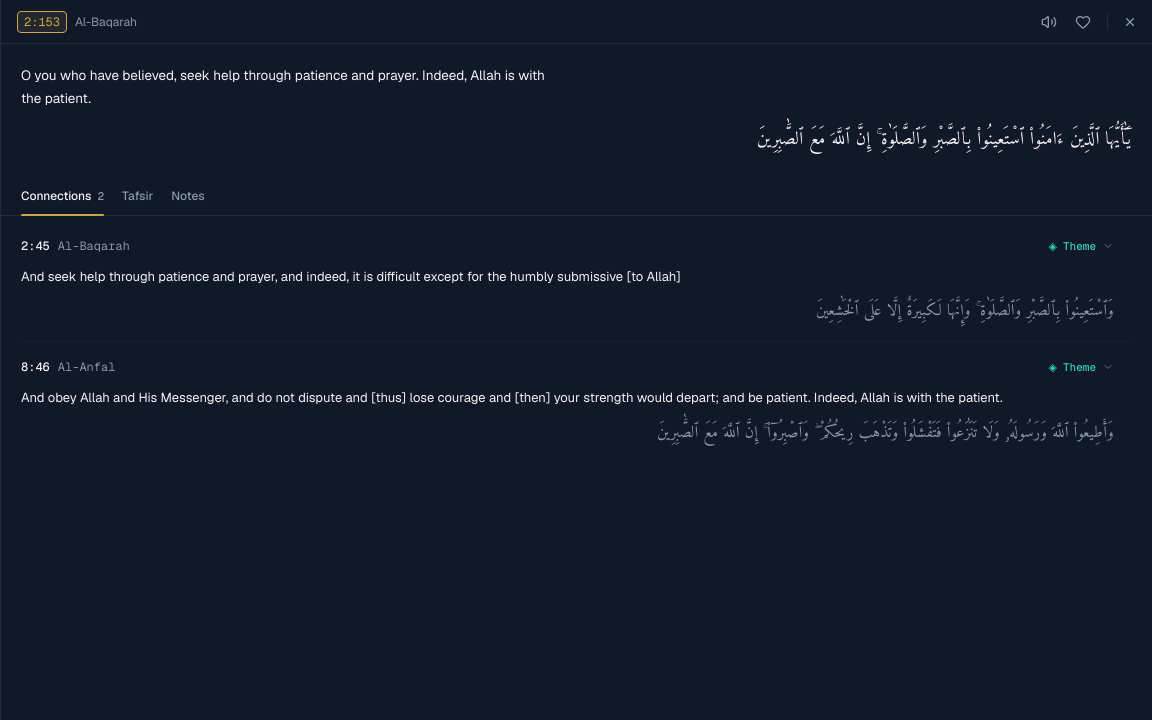
Test: ContextSidebar — reading views › opens a reason from the kind word, under the verse, marked as AI and not tafsir
Click the button with aria-label "Why connected: Theme" at (1081, 367), box x1=1042 y1=355 x2=1120 y2=379
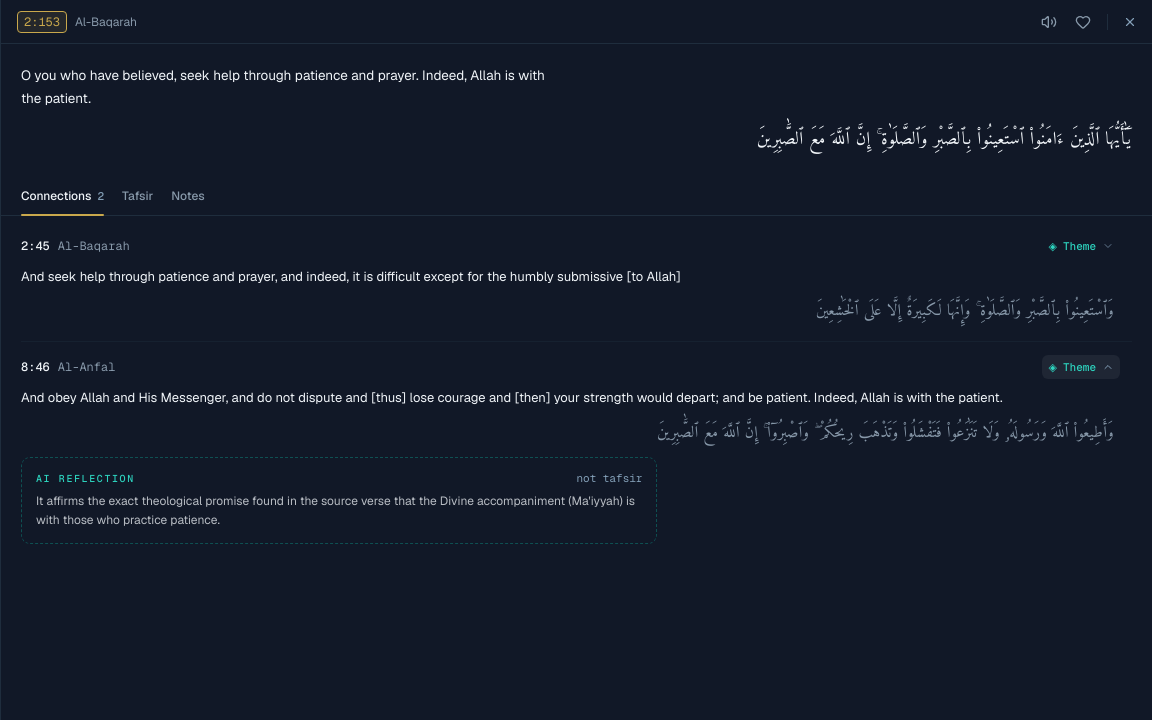
Now the button with aria-label "Why connected: Theme" is expanded
Now the text "AI reflection" is shown, box x1=36 y1=471 x2=135 y2=486
Now the text "not tafsir" is shown, box x1=576 y1=470 x2=642 y2=486
Click the button with aria-label "Why connected: Theme" at (1081, 367), box x1=1042 y1=355 x2=1120 y2=379
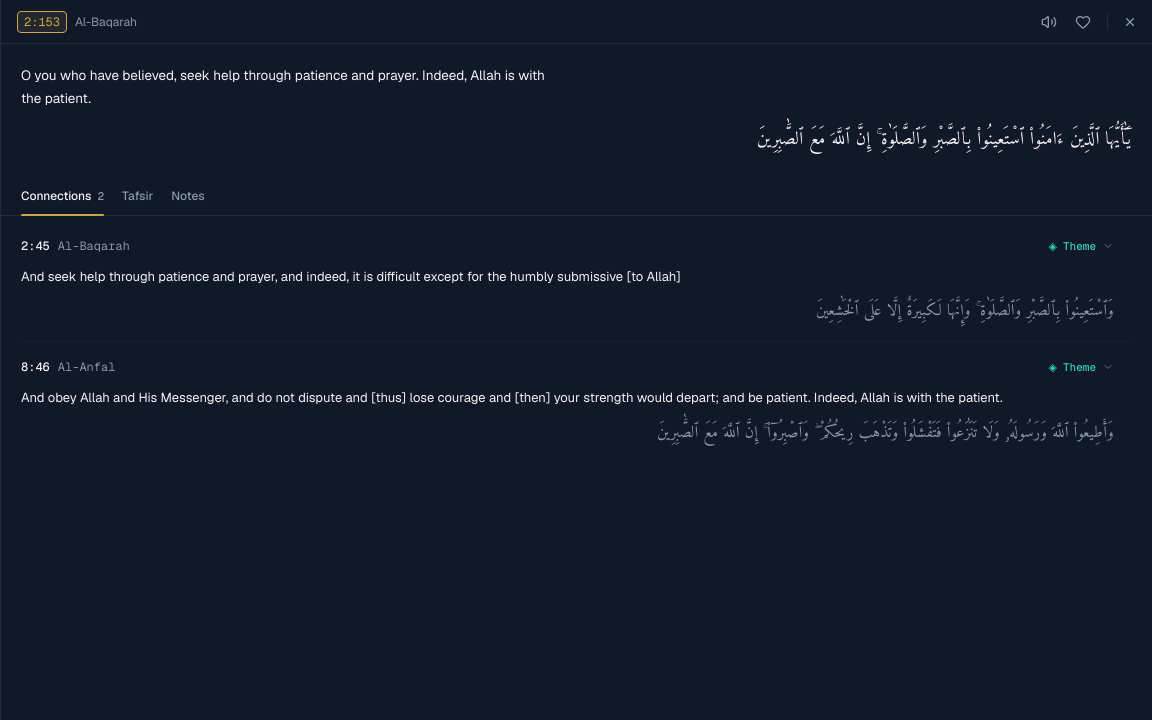
Now the text "It affirms the exact theological promise found in the source verse that the Divine accompaniment (Ma'iyyah) is with thos" is gone
